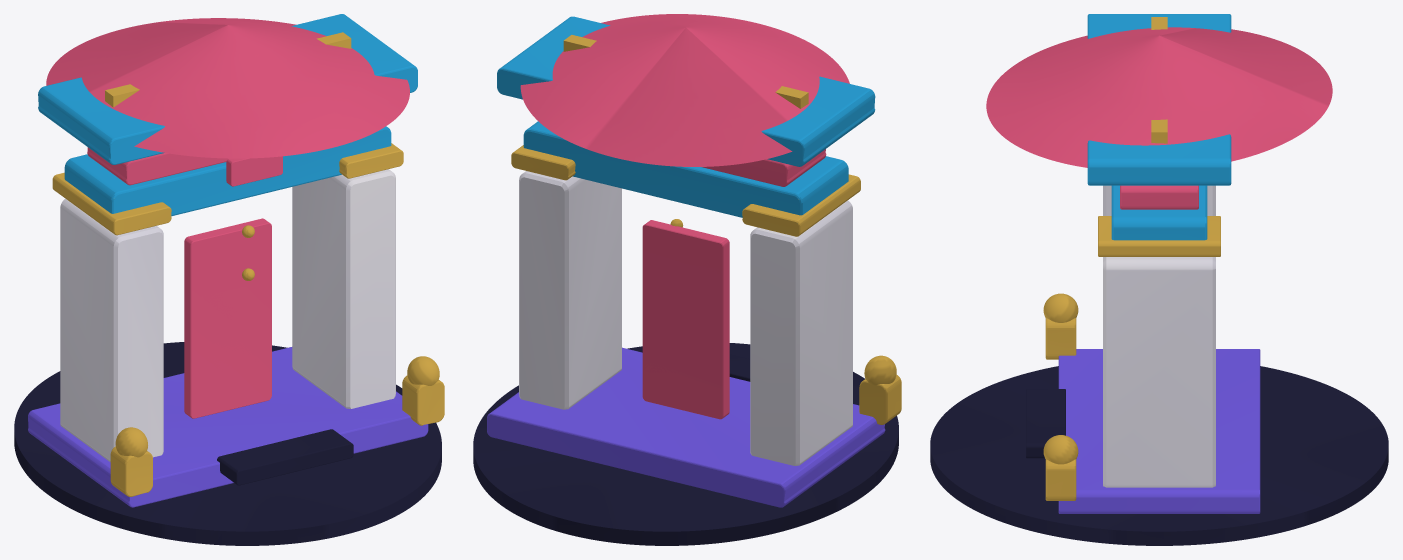
File: 0816_中国建筑图鉴_阜成门.glb
The picture shows the model from 3 angles, left to right: view 1: azimuth 30°, elevation 25°; view 2: azimuth 150°, elevation 25°; view 3: azimuth 270°, elevation 25°; orthographic projection.
Parts seen in each view (by area): view 1: card_0816; view 2: card_0816; view 3: card_0816.
Boxes of the visible parts, box(x1,y1,x2,y2) form: card_0816: box(14, 14, 444, 545); card_0816: box(473, 14, 901, 545); card_0816: box(930, 14, 1388, 545).
Bounding box in the file's own units: 0.8852 × 1 × 0.9824.
